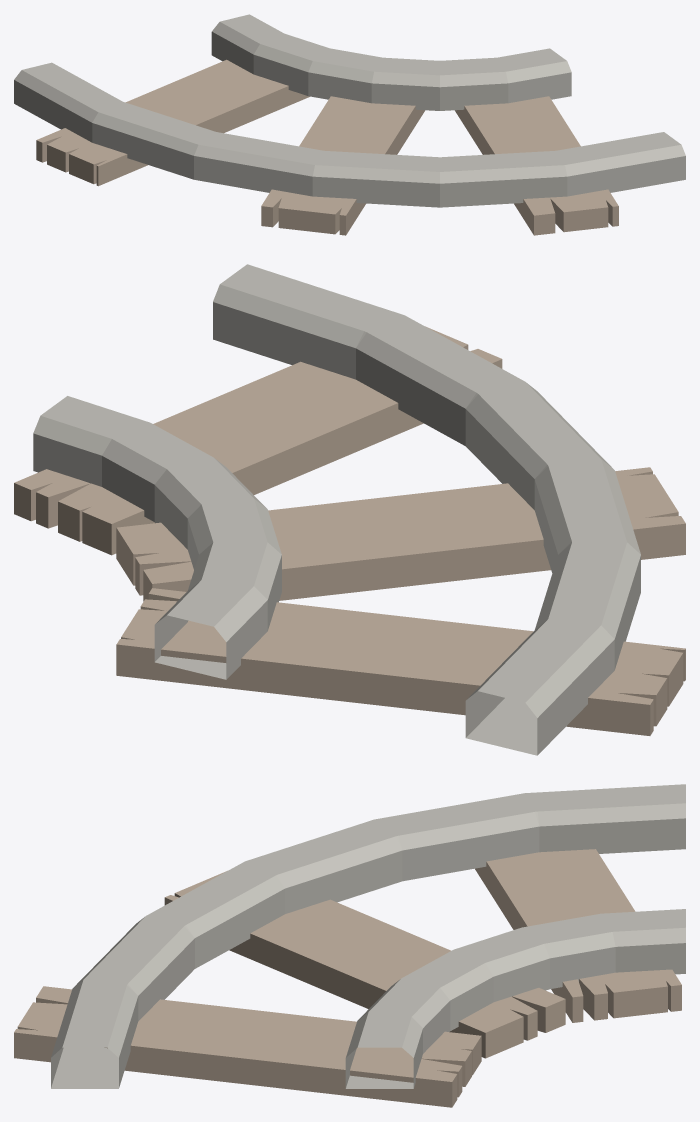
Rendered from Cave_Prop_Railway_Curve_Small.glb.
3 views of the same model, one above another, from view 1: azimuth 30°, elevation 25°; view 2: azimuth 150°, elevation 25°; view 3: azimuth 270°, elevation 25° (orthographic). The views are drawn at different scales.
Visible parts, largest first — view 1: Cave_Prop_Railway_Curve_Small; view 2: Cave_Prop_Railway_Curve_Small; view 3: Cave_Prop_Railway_Curve_Small.
Boxes of the visible parts, x1,y1,x2,y2 form: Cave_Prop_Railway_Curve_Small: [14, 14, 685, 235]; Cave_Prop_Railway_Curve_Small: [14, 264, 685, 755]; Cave_Prop_Railway_Curve_Small: [14, 784, 685, 1107].
Size of the model in its own units: 0.7851 by 0.0795 by 0.7851.
